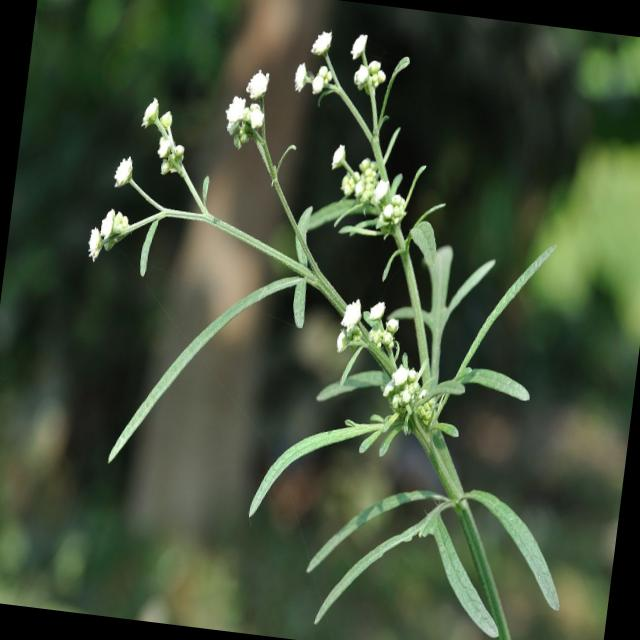Poisonous-Parthenium: (204, 13, 504, 400), (237, 372, 608, 640), (78, 72, 242, 338)
